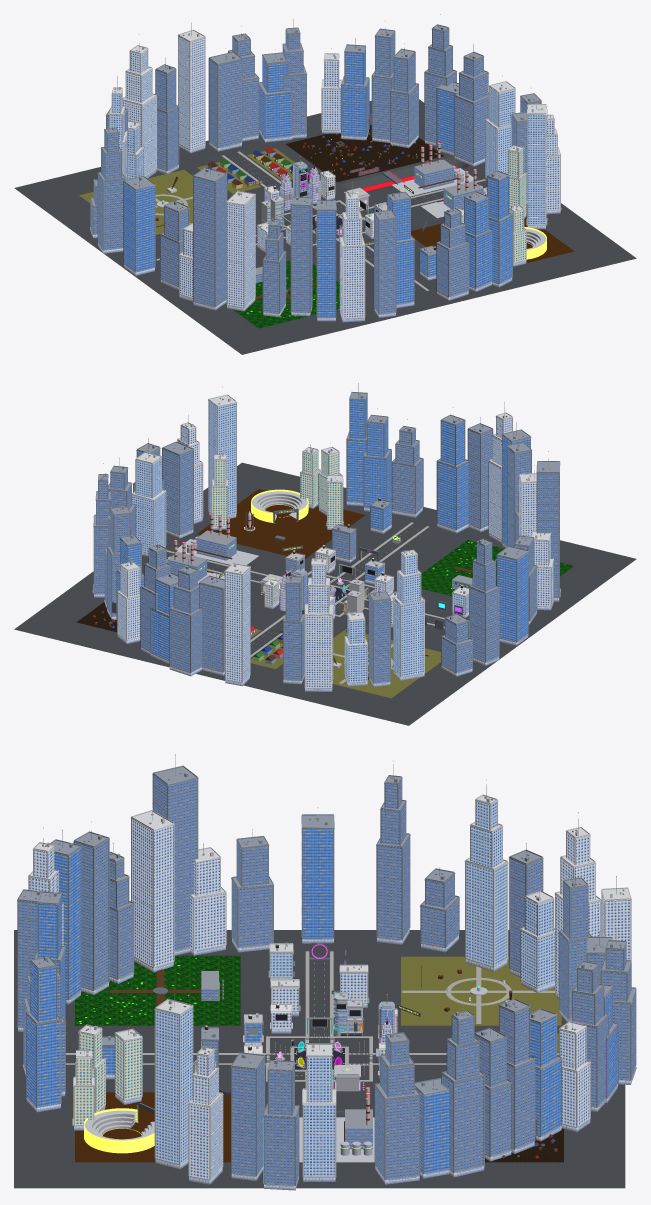
Rendered from bag_square.m.glb.
3 renders of one model, top to bottom at view 1: azimuth 30°, elevation 25°; view 2: azimuth 150°, elevation 25°; view 3: azimuth 270°, elevation 25°, orthographic. The views are drawn at different scales.
Visible parts, largest first — view 1: M_fac_granite, M_asphalt, M_trim_dark, M_fac_glass, M_fac_stone, M_trim_stone, M_fac_stucco, M_dirt, M_shopfront, M_grass, M_swamp, M_fac_sand (+8 smaller); view 2: M_fac_granite, M_asphalt, M_trim_dark, M_fac_glass, M_fac_stone, M_trim_stone, M_fac_stucco, M_goldpave, M_fac_sand, M_shopfront, M_grass, M_swamp (+7 smaller); view 3: M_fac_granite, M_asphalt, M_trim_dark, M_fac_stone, M_fac_glass, M_fac_stucco, M_trim_stone, M_swamp, M_grass, M_shopfront, M_fac_sand, M_goldpave (+9 smaller).
Boxes of the visible parts, <box> form: M_fac_granite: <box>90,29,540,313</box>; M_asphalt: <box>14,99,636,354</box>; M_trim_dark: <box>89,19,561,319</box>; M_fac_glass: <box>124,48,512,317</box>; M_fac_stone: <box>122,37,560,318</box>; M_trim_stone: <box>109,29,561,318</box>; M_fac_stucco: <box>110,87,546,225</box>; M_dirt: <box>285,125,443,182</box>; M_shopfront: <box>92,130,560,322</box>; M_grass: <box>79,148,309,234</box>; M_swamp: <box>225,260,339,328</box>; M_fac_sand: <box>461,149,526,262</box>; M_fac_granite: <box>94,430,559,682</box>; M_asphalt: <box>14,462,636,725</box>; M_trim_dark: <box>92,384,560,689</box>; M_fac_glass: <box>117,396,530,660</box>; M_fac_stone: <box>117,417,553,687</box>; M_trim_stone: <box>117,394,553,688</box>; M_fac_stucco: <box>132,401,468,682</box>; M_goldpave: <box>197,489,364,558</box>; M_fac_sand: <box>212,451,342,526</box>; M_shopfront: <box>94,501,559,691</box>; M_grass: <box>250,629,440,698</box>; M_swamp: <box>421,540,573,596</box>; M_fac_granite: <box>18,775,635,1185</box>; M_asphalt: <box>14,930,625,1188</box>; M_trim_dark: <box>17,755,636,1186</box>; M_fac_stone: <box>29,819,630,1179</box>; M_fac_glass: <box>26,829,617,1173</box>; M_fac_stucco: <box>156,801,554,1176</box>; M_trim_stone: <box>28,794,631,1179</box>; M_swamp: <box>75,955,240,1025</box>; M_grass: <box>401,956,561,1051</box>; M_shopfront: <box>18,929,632,1190</box>; M_fac_sand: <box>75,1030,196,1125</box>; M_goldpave: <box>75,1092,230,1162</box>.
Size of what is drawn, in the model's own units: 487 by 174 by 489.
103 materials, 42 textured.
